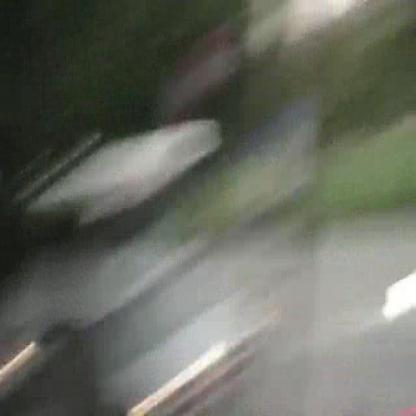other: (114, 342, 233, 405)
